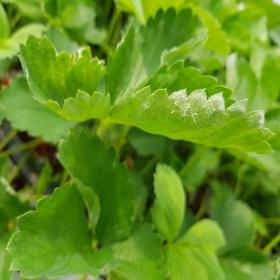Powdery Mildew Leaf: (110, 60, 279, 155), (17, 33, 111, 122)
